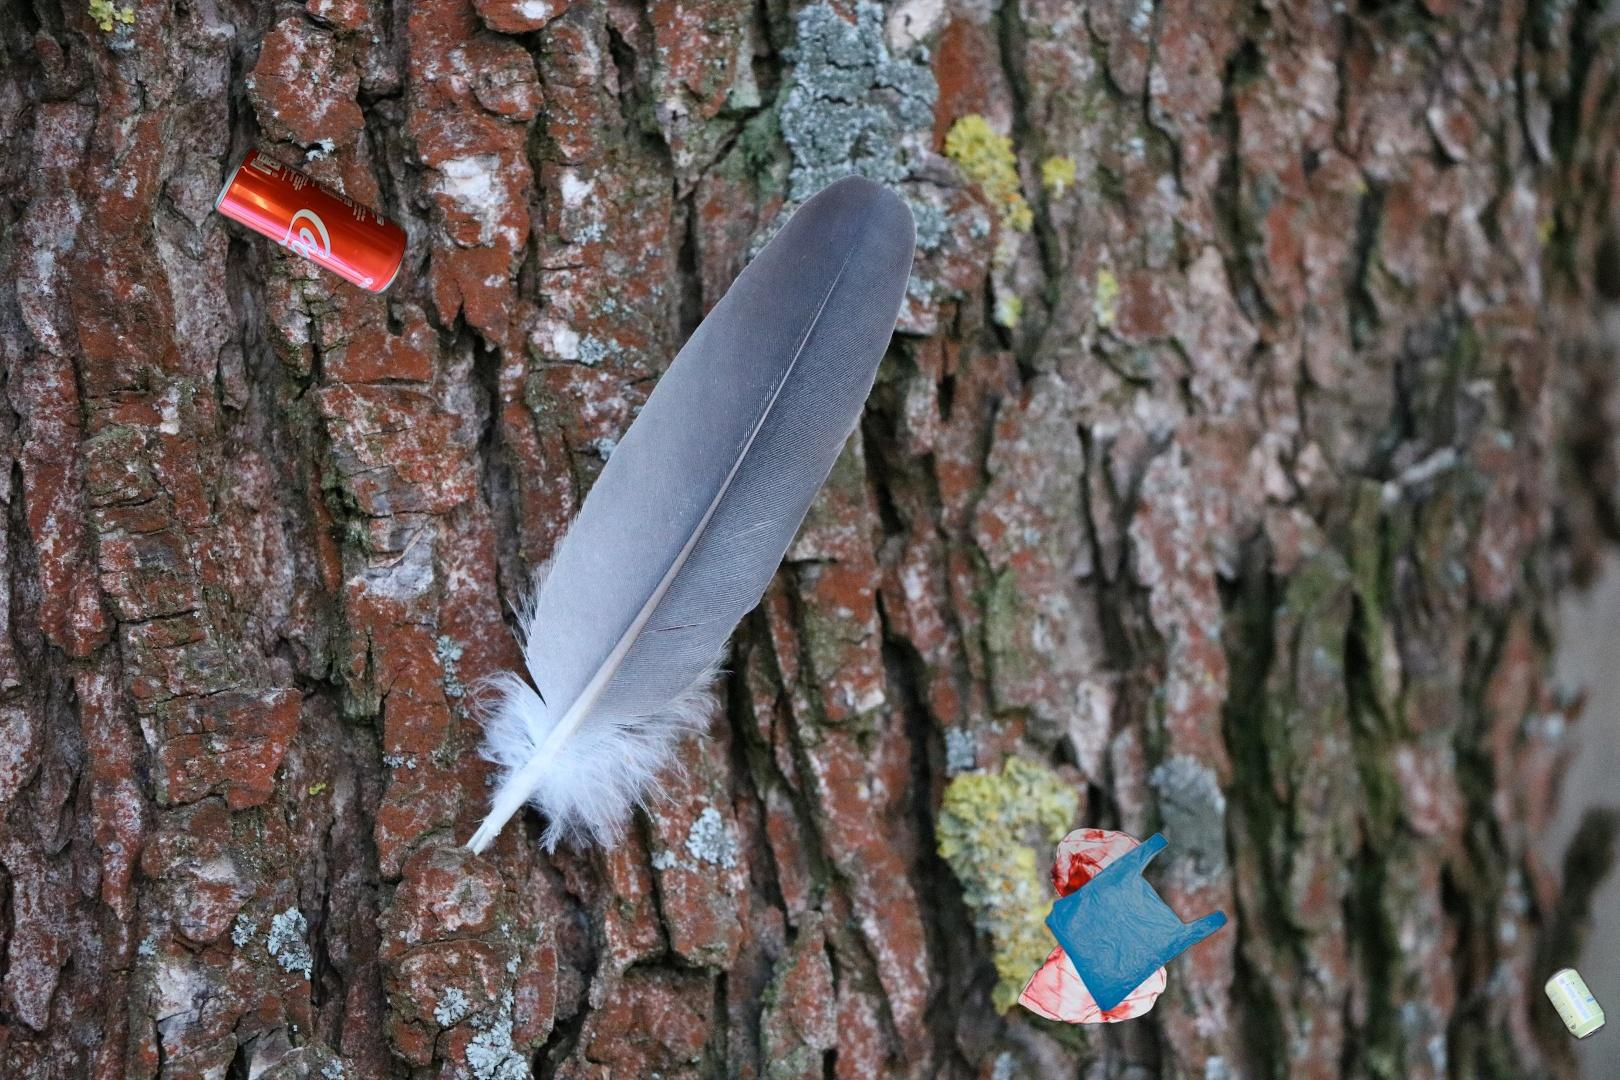metal-cans: (209, 139, 414, 302), (1538, 962, 1620, 1080)
plastic-bag: (1014, 826, 1229, 1027)
